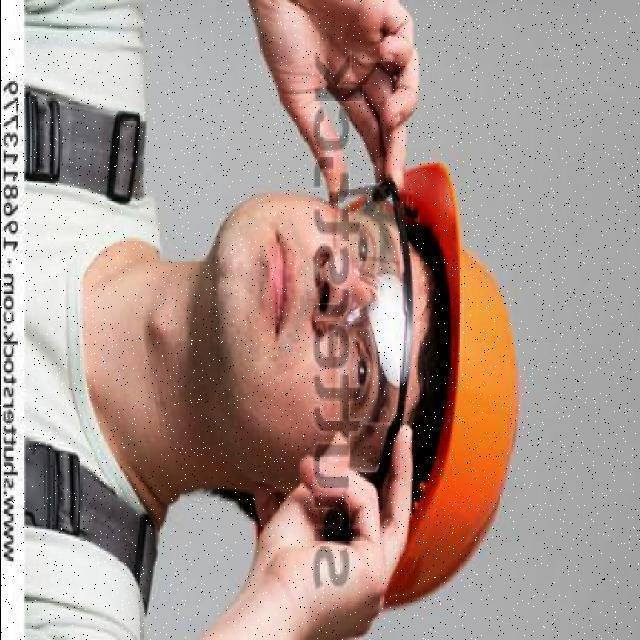Goggles: (311, 166, 420, 488)
